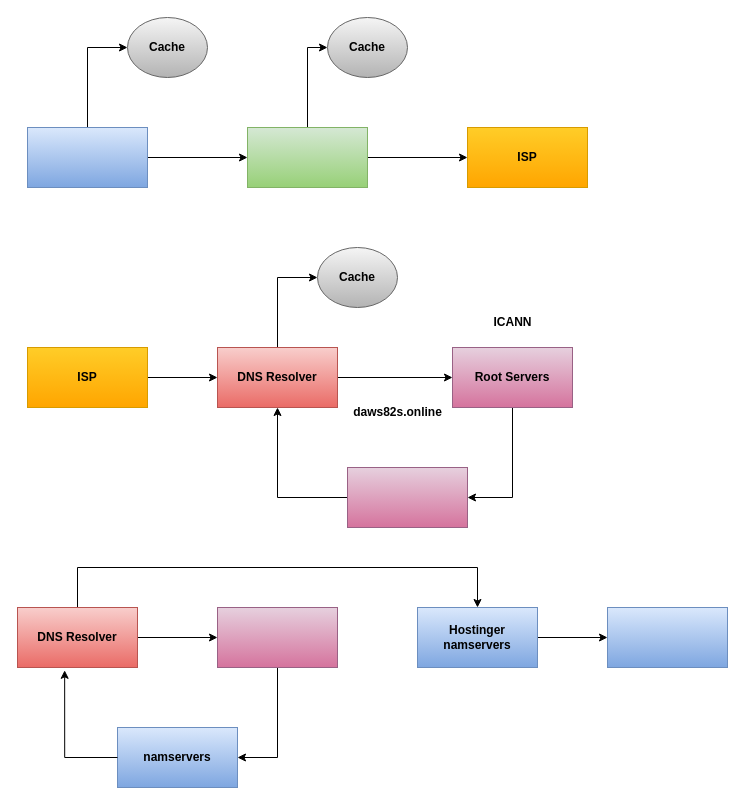
This 745x805 diagram has some shape labels left out. Each missing label, with the box of its shape:
.com TLD: (216, 606, 338, 668)
.online TLD: (346, 466, 468, 528)
Browser: (26, 126, 148, 188)
IP address: (606, 606, 728, 668)
OS: (246, 126, 368, 188)
